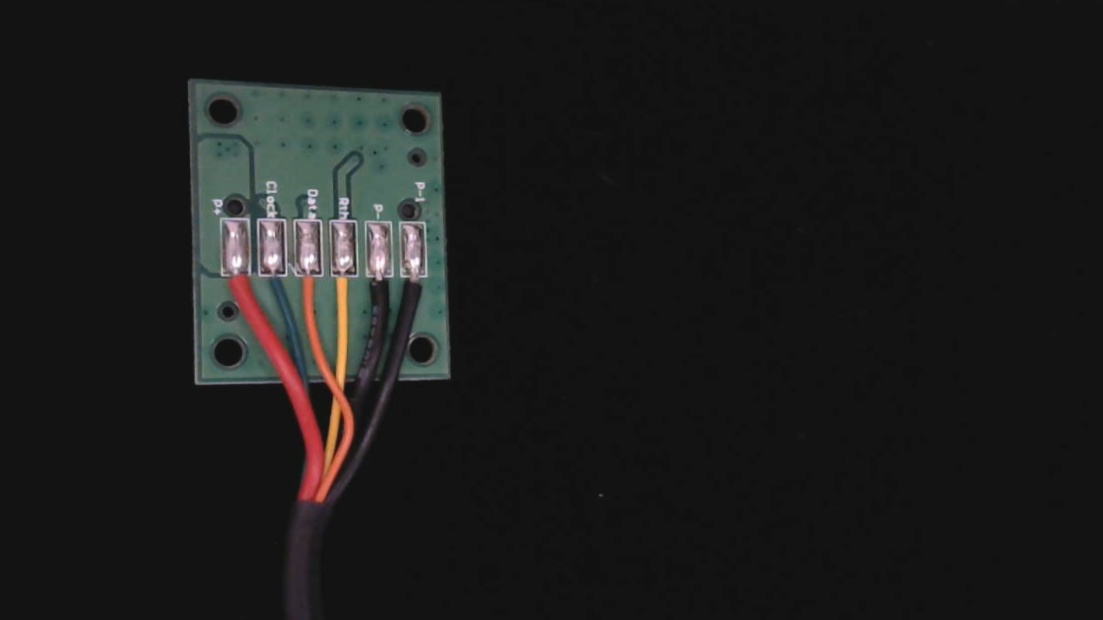Black: (364, 259, 396, 323)
Black1: (400, 260, 431, 319)
Green: (258, 253, 290, 315)
Orange: (293, 258, 323, 321)
Red: (221, 258, 253, 319)
Yellow: (330, 259, 361, 325)
